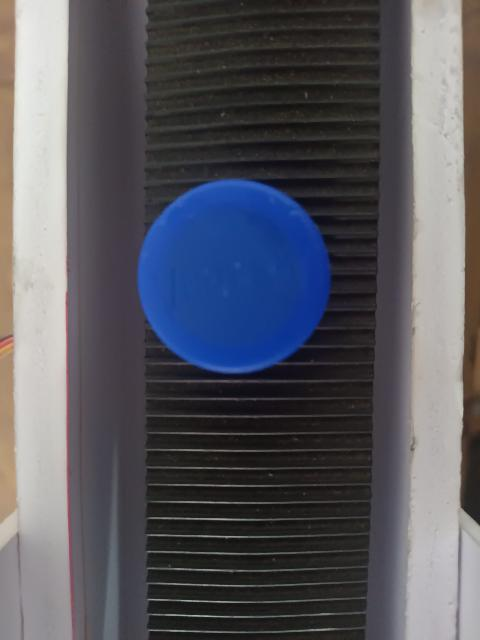bottlecap: (136, 176, 332, 378)
